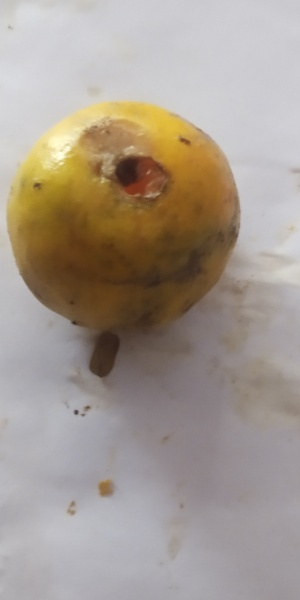BAD: (8, 99, 244, 332)
